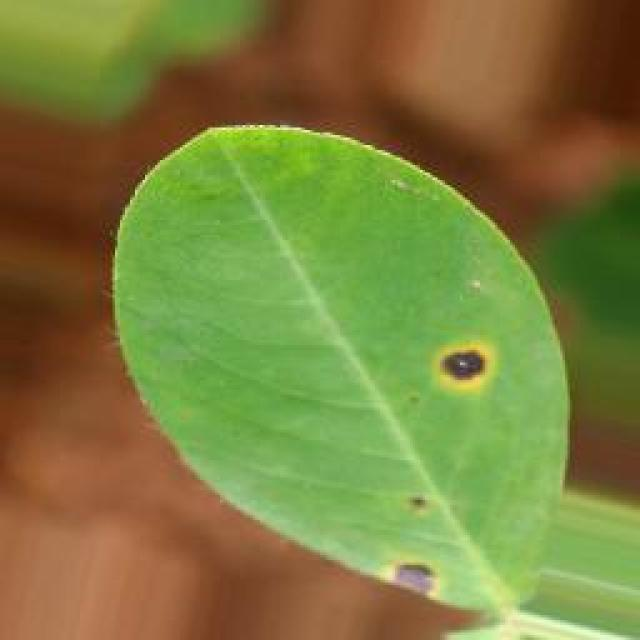Sigatoka: (344, 478, 457, 634), (413, 329, 519, 417)
